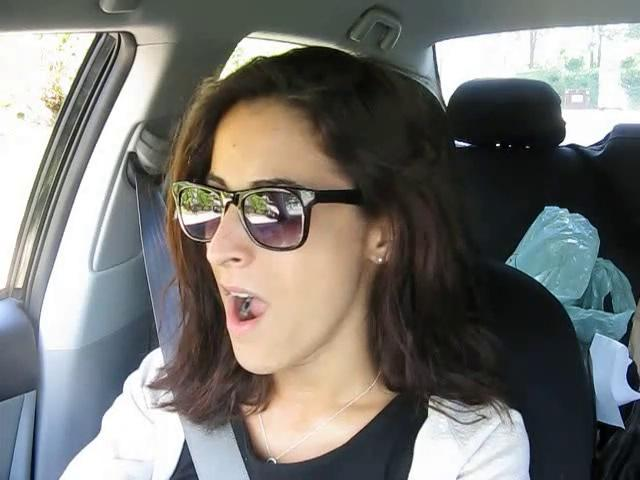yawn: (206, 282, 284, 338)
